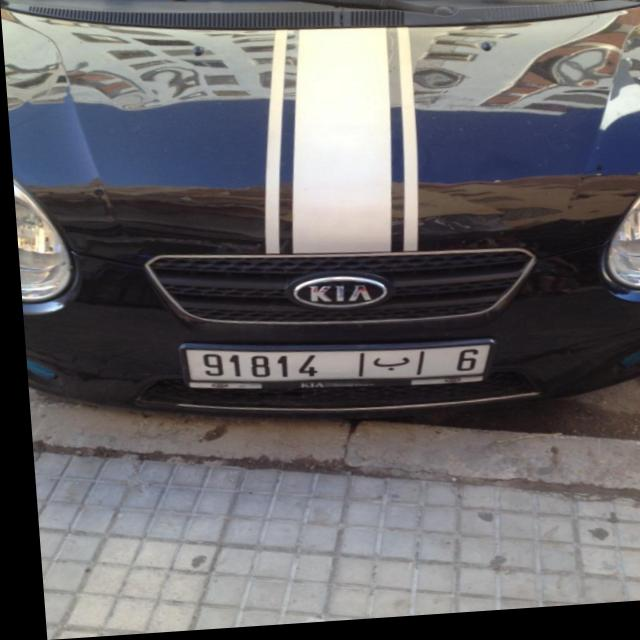License-Plate: (181, 352, 484, 385)
